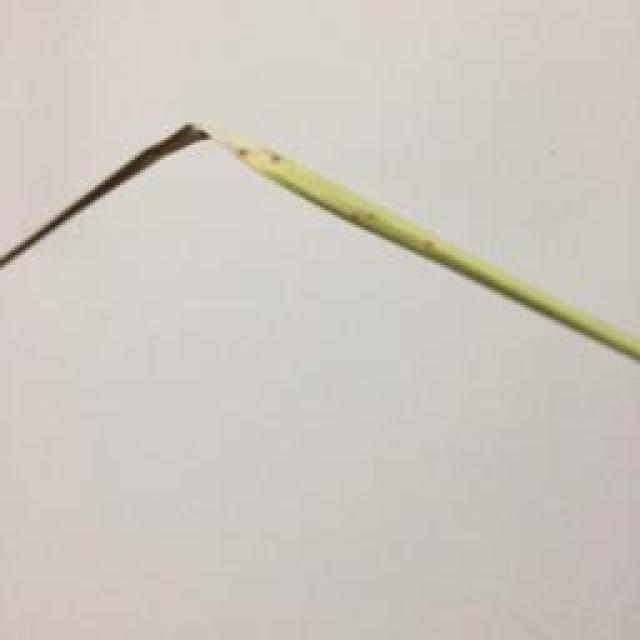Bacterial_Blight: (0, 104, 294, 286)
Brown_Spot: (226, 146, 299, 165), (406, 236, 440, 261), (347, 206, 384, 228)
